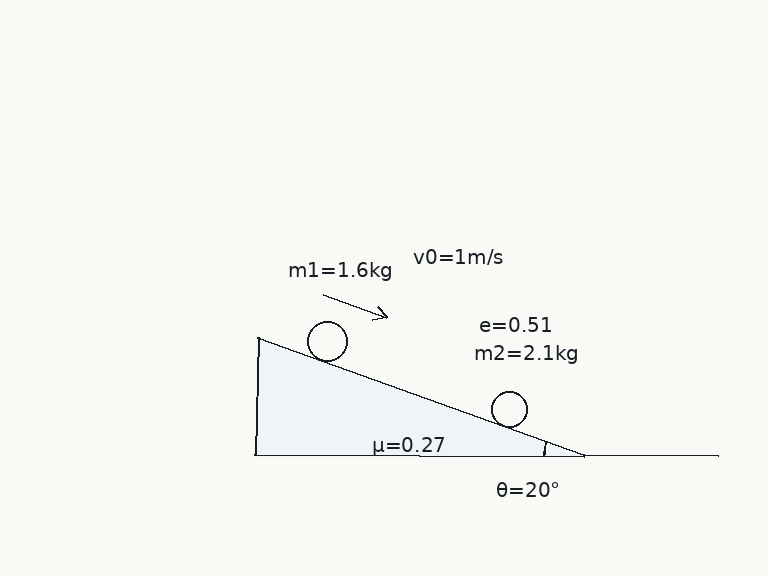ball: (305, 319, 349, 363), (489, 389, 529, 429)
ramp: (254, 335, 586, 458)
